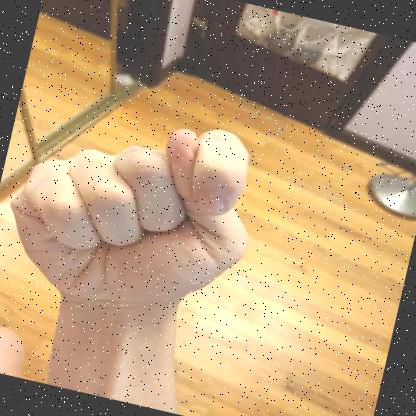T: (10, 128, 249, 327)
